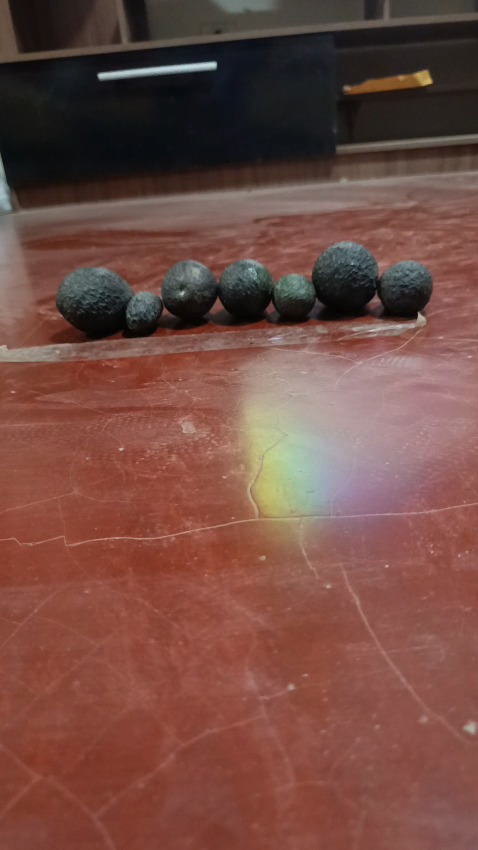Primera: (56, 266, 132, 336), (312, 240, 379, 313)
Segunda: (161, 259, 217, 321), (219, 259, 274, 320), (377, 260, 432, 316)
Tercera: (273, 273, 316, 320), (125, 291, 163, 335)
